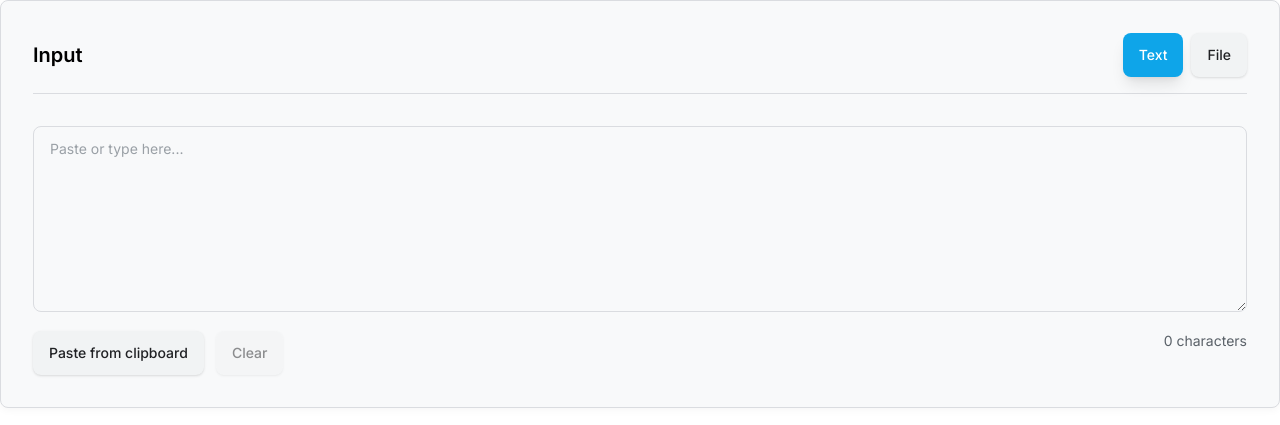
Test case: ImportPanel › allows typing in text mode and shows character count
Type "hello" into the text box named "text input" at (640, 219), box top-left (33, 126), bottom-right (1247, 312)
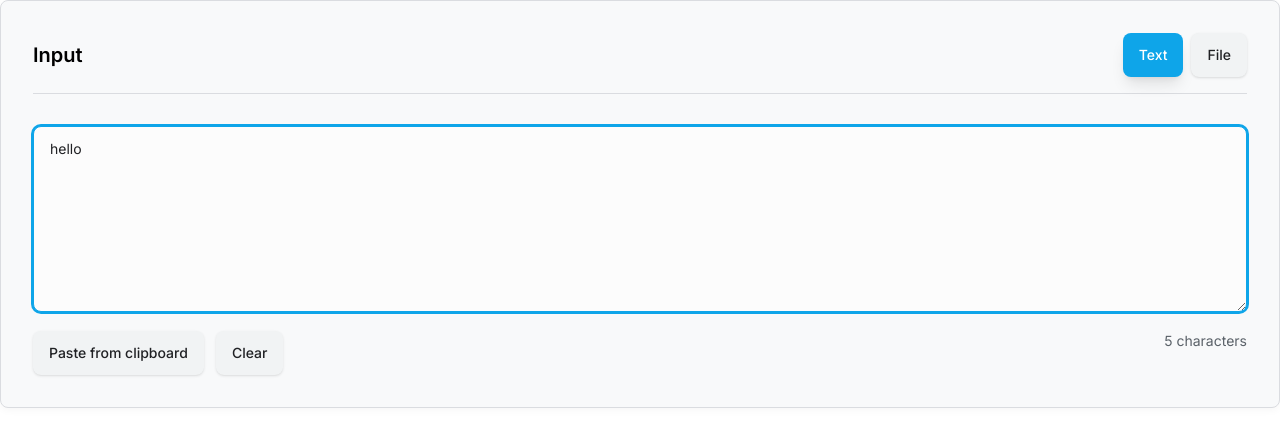
expect the text "5 characters" is shown: met, box top-left (1164, 332), bottom-right (1247, 349)
Note: Clear button clears content
Click the button "Clear" at (250, 353), box top-left (216, 331), bottom-right (283, 375)
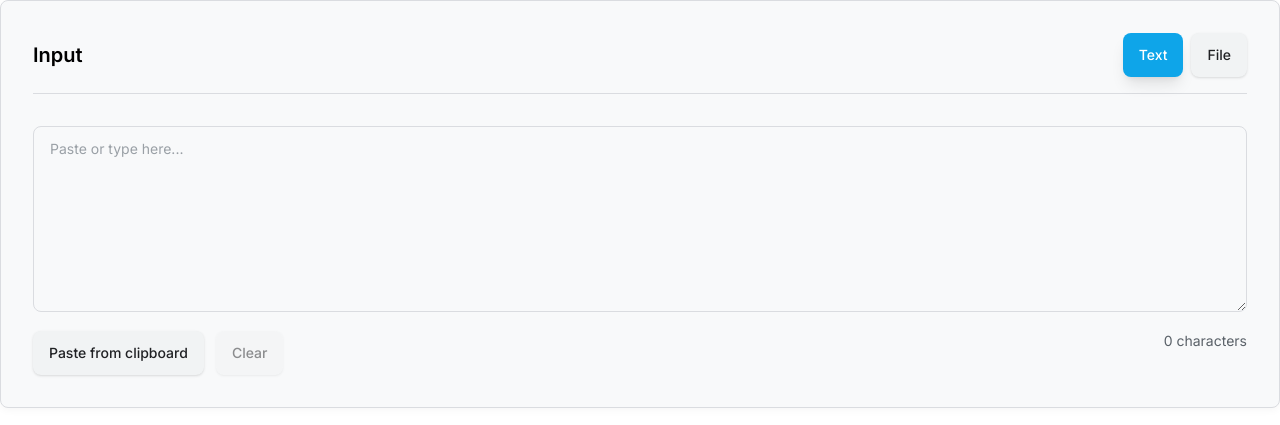
expect the text "0 characters" is shown: met, box top-left (1164, 332), bottom-right (1247, 349)
